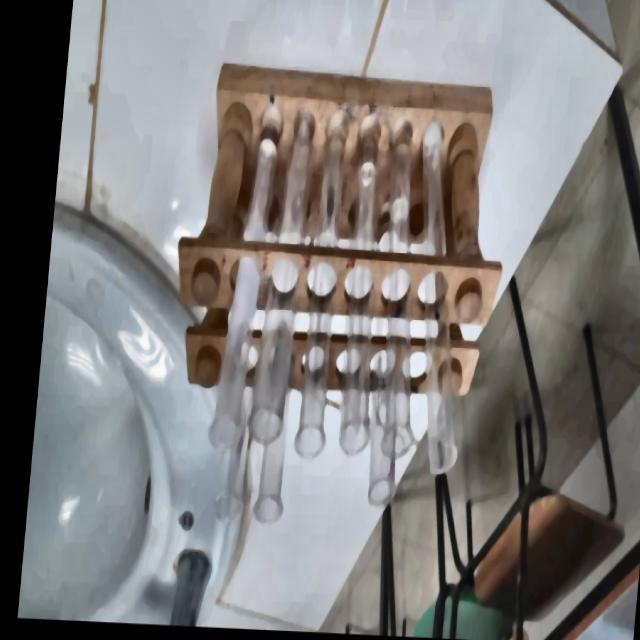Test Tube Racks: (181, 53, 516, 409)
